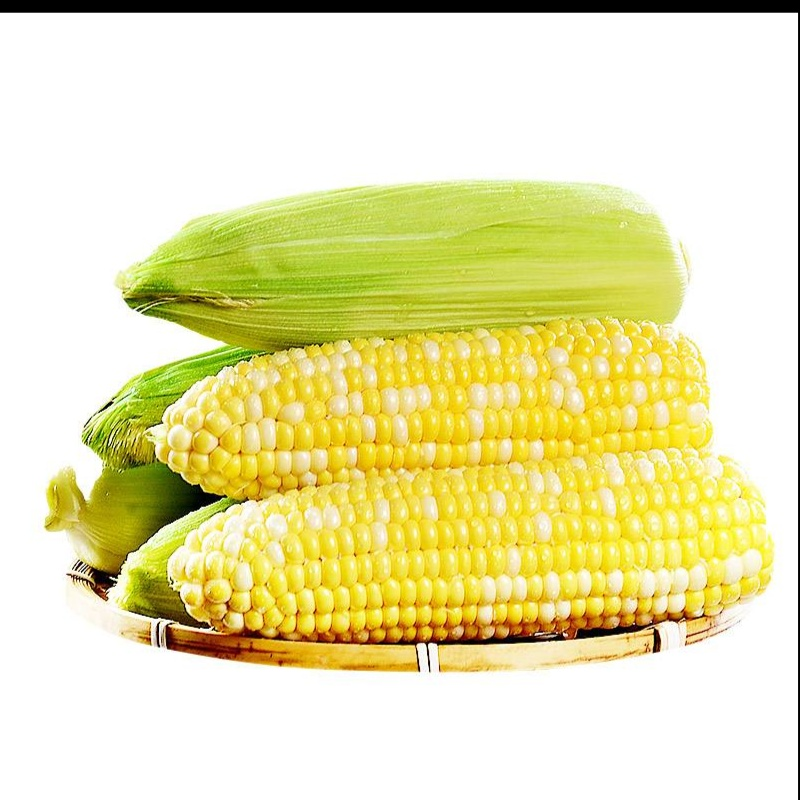corn: (153, 317, 712, 499), (191, 463, 769, 625)
corn_plant: (122, 181, 701, 326)
